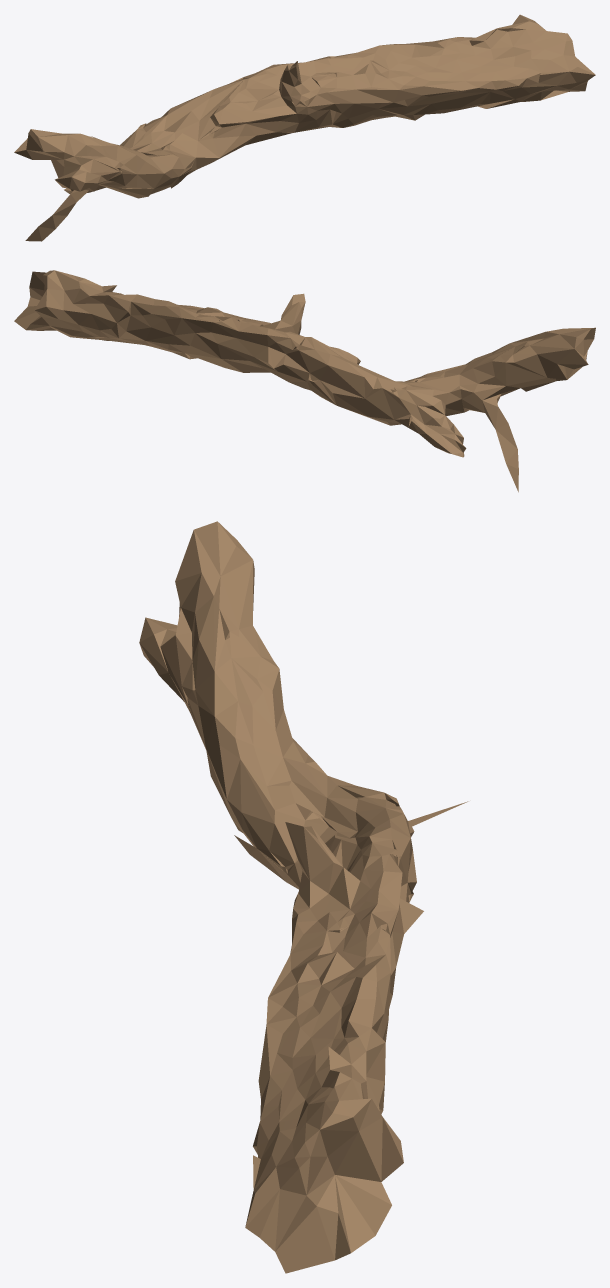
Rendered from trunk_1.glb.
3 renders of one model, top to bottom at view 1: azimuth 30°, elevation 25°; view 2: azimuth 150°, elevation 25°; view 3: azimuth 270°, elevation 25°, orthographic. The views are drawn at different scales.
Parts seen in each view (by area): view 1: dead_tree_trunk_02_LOD0; view 2: dead_tree_trunk_02_LOD0; view 3: dead_tree_trunk_02_LOD0.
Part boxes in pixels (<box>): dead_tree_trunk_02_LOD0: <box>14,14,595,241</box>; dead_tree_trunk_02_LOD0: <box>14,270,595,492</box>; dead_tree_trunk_02_LOD0: <box>139,521,468,1273</box>.
Bounding box in the file's own units: 3.63 × 0.9 × 0.9415.
